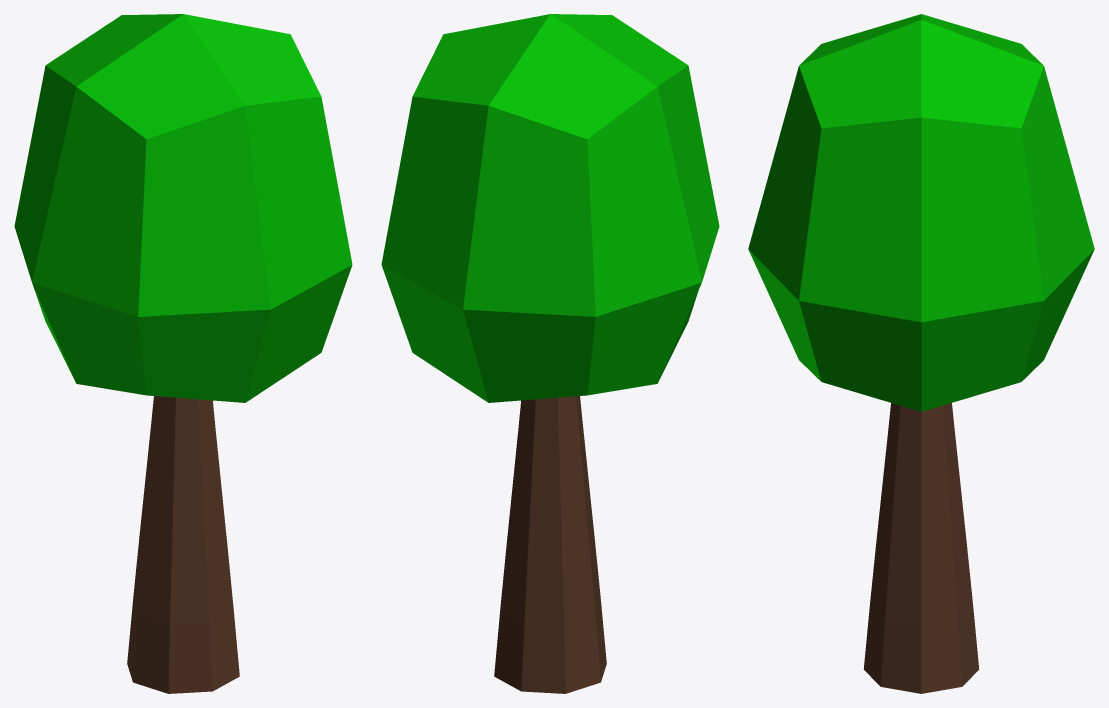
File: tree_02.glb
The picture shows the model from 3 angles, left to right: view 1: azimuth 30°, elevation 25°; view 2: azimuth 150°, elevation 25°; view 3: azimuth 270°, elevation 25°; orthographic projection.
Visible parts, largest first — view 1: Tree_02; view 2: Tree_02; view 3: Tree_02.
Boxes of the visible parts, box(x1,y1,x2,y2) form: Tree_02: box(14, 14, 352, 693); Tree_02: box(381, 14, 719, 693); Tree_02: box(748, 14, 1094, 693).
Bounding box in the file's own units: 6 × 12.41 × 6.
Materials: 1 (1 with a texture image).
